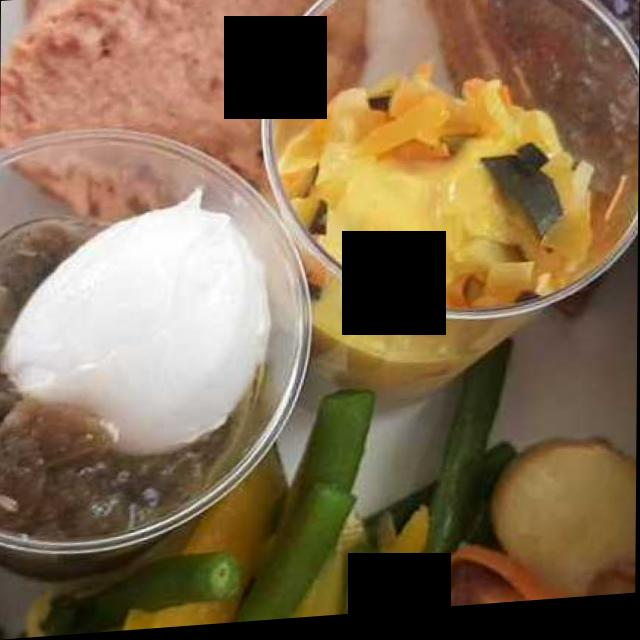eggplant-caviar: (11, 199, 258, 552)
fish: (314, 95, 599, 406)
sauce-savoury: (309, 145, 553, 402)
sour-cream: (7, 200, 291, 455)
